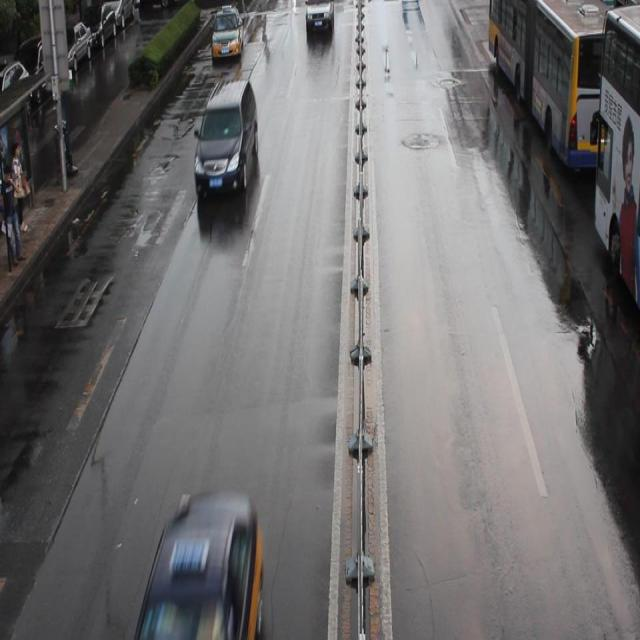car: (140, 486, 262, 640), (211, 1, 242, 62), (305, 1, 335, 36)
truck: (194, 80, 257, 197)
van: (488, 1, 627, 170), (592, 1, 640, 308)
